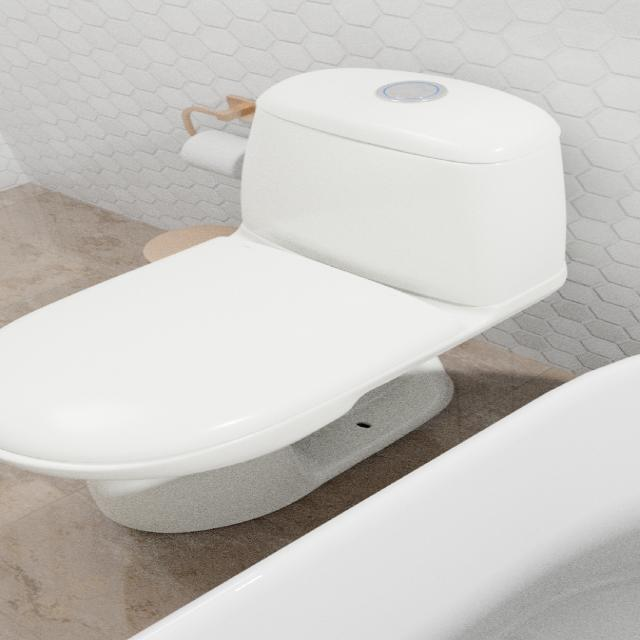toilet: (1, 66, 568, 534)
